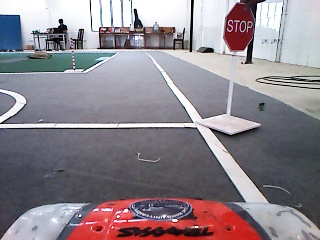stop: (222, 3, 256, 52)
